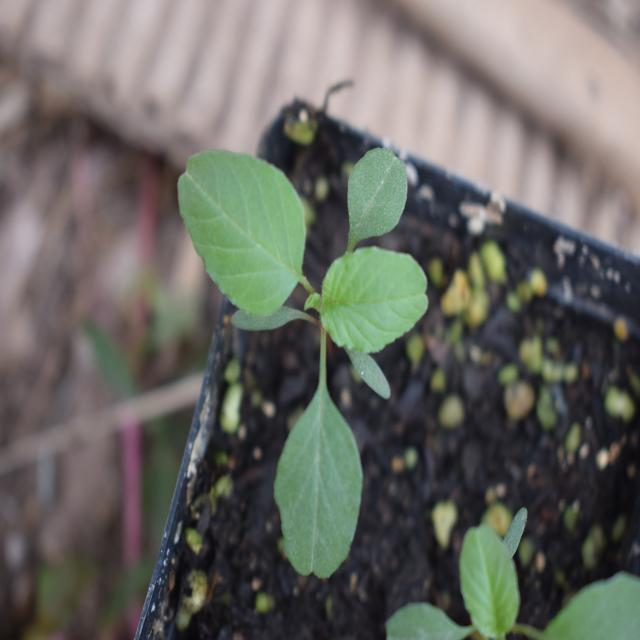pigweed: (173, 122, 415, 573)
